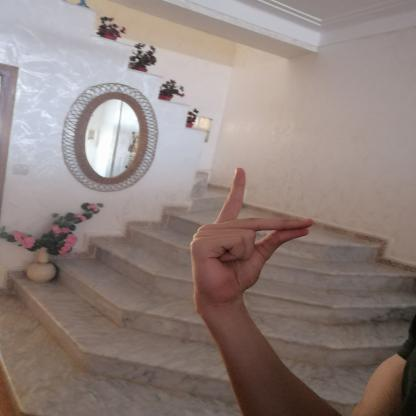TAA: (177, 162, 322, 308)
